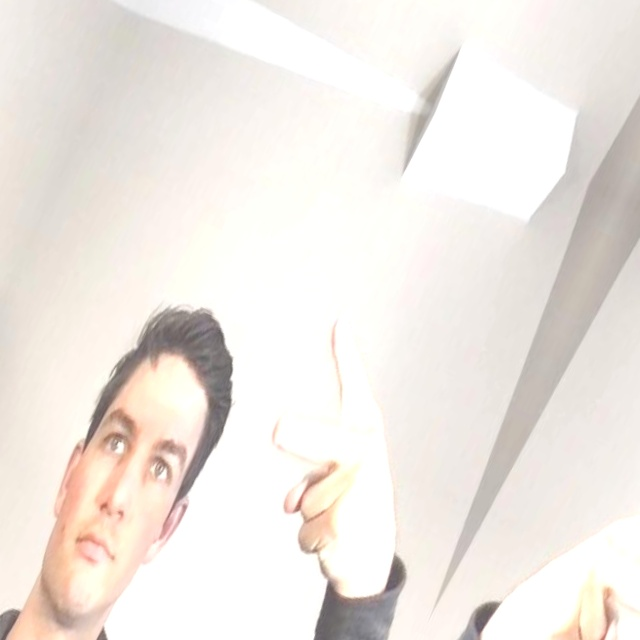Scissors: (208, 304, 477, 640)
